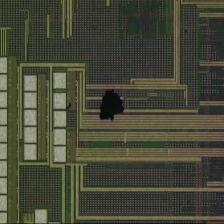PARTICLE: (98, 89, 127, 124)
